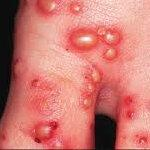Ants: (76, 62, 104, 112), (98, 26, 121, 59), (69, 28, 97, 50), (29, 75, 58, 96), (32, 119, 57, 143), (36, 0, 58, 15), (122, 95, 135, 119), (34, 97, 51, 115), (12, 57, 26, 78), (66, 1, 84, 15), (135, 133, 149, 148), (49, 141, 71, 149), (0, 128, 9, 145)
